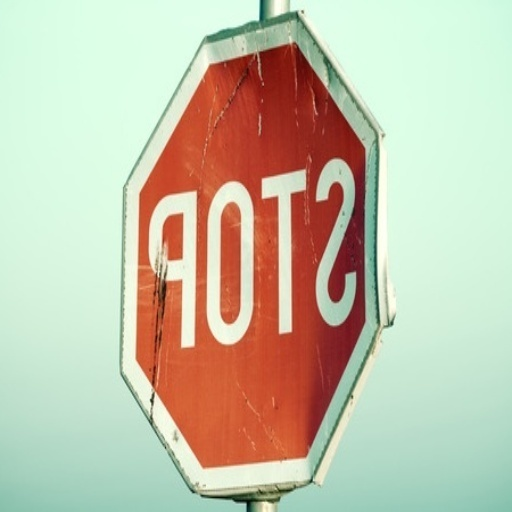Stop: (105, 14, 439, 494)
